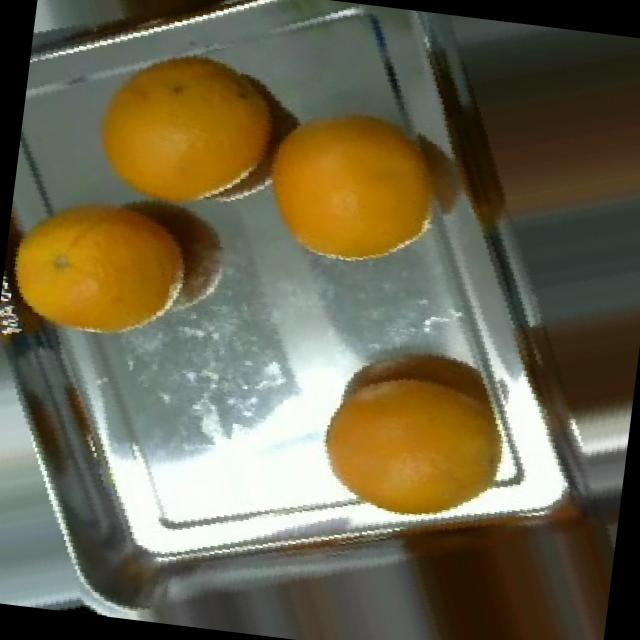Fruit: (0, 159, 236, 373)
